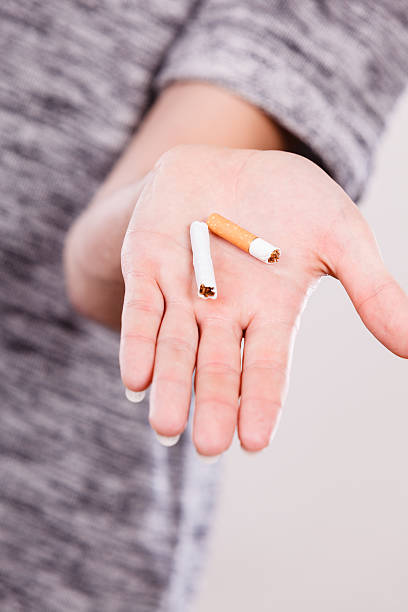cigarette: (205, 212, 284, 265), (189, 219, 217, 299)
